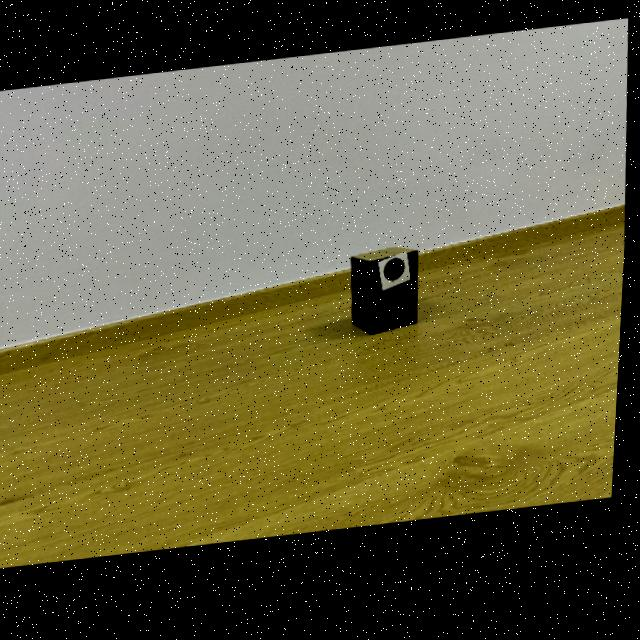CIRCLE: (386, 265, 408, 288)
